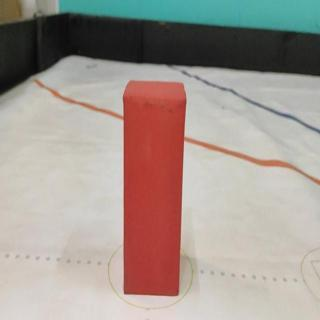redbox: (124, 80, 181, 294)
